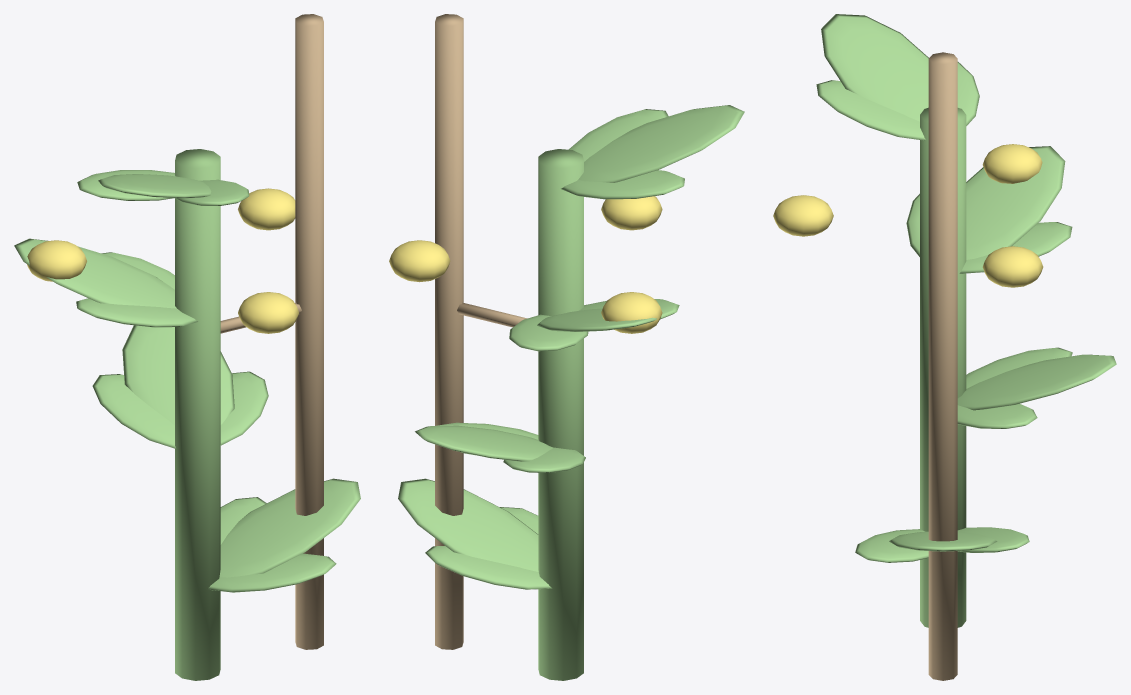
File: VCrop_Tomato_4.fbx
3 views of the same model, side by side, from view 1: azimuth 30°, elevation 25°; view 2: azimuth 150°, elevation 25°; view 3: azimuth 270°, elevation 25° (orthographic).
Parts seen in each view (by area): view 1: VCrop_Tomato_4; view 2: VCrop_Tomato_4; view 3: VCrop_Tomato_4.
Part boxes in pixels (<box>): VCrop_Tomato_4: <box>14,14,360,680</box>; VCrop_Tomato_4: <box>389,14,744,680</box>; VCrop_Tomato_4: <box>773,14,1116,680</box>.
Bounding box in the file's own units: 0.277 × 0.56 × 0.283.
